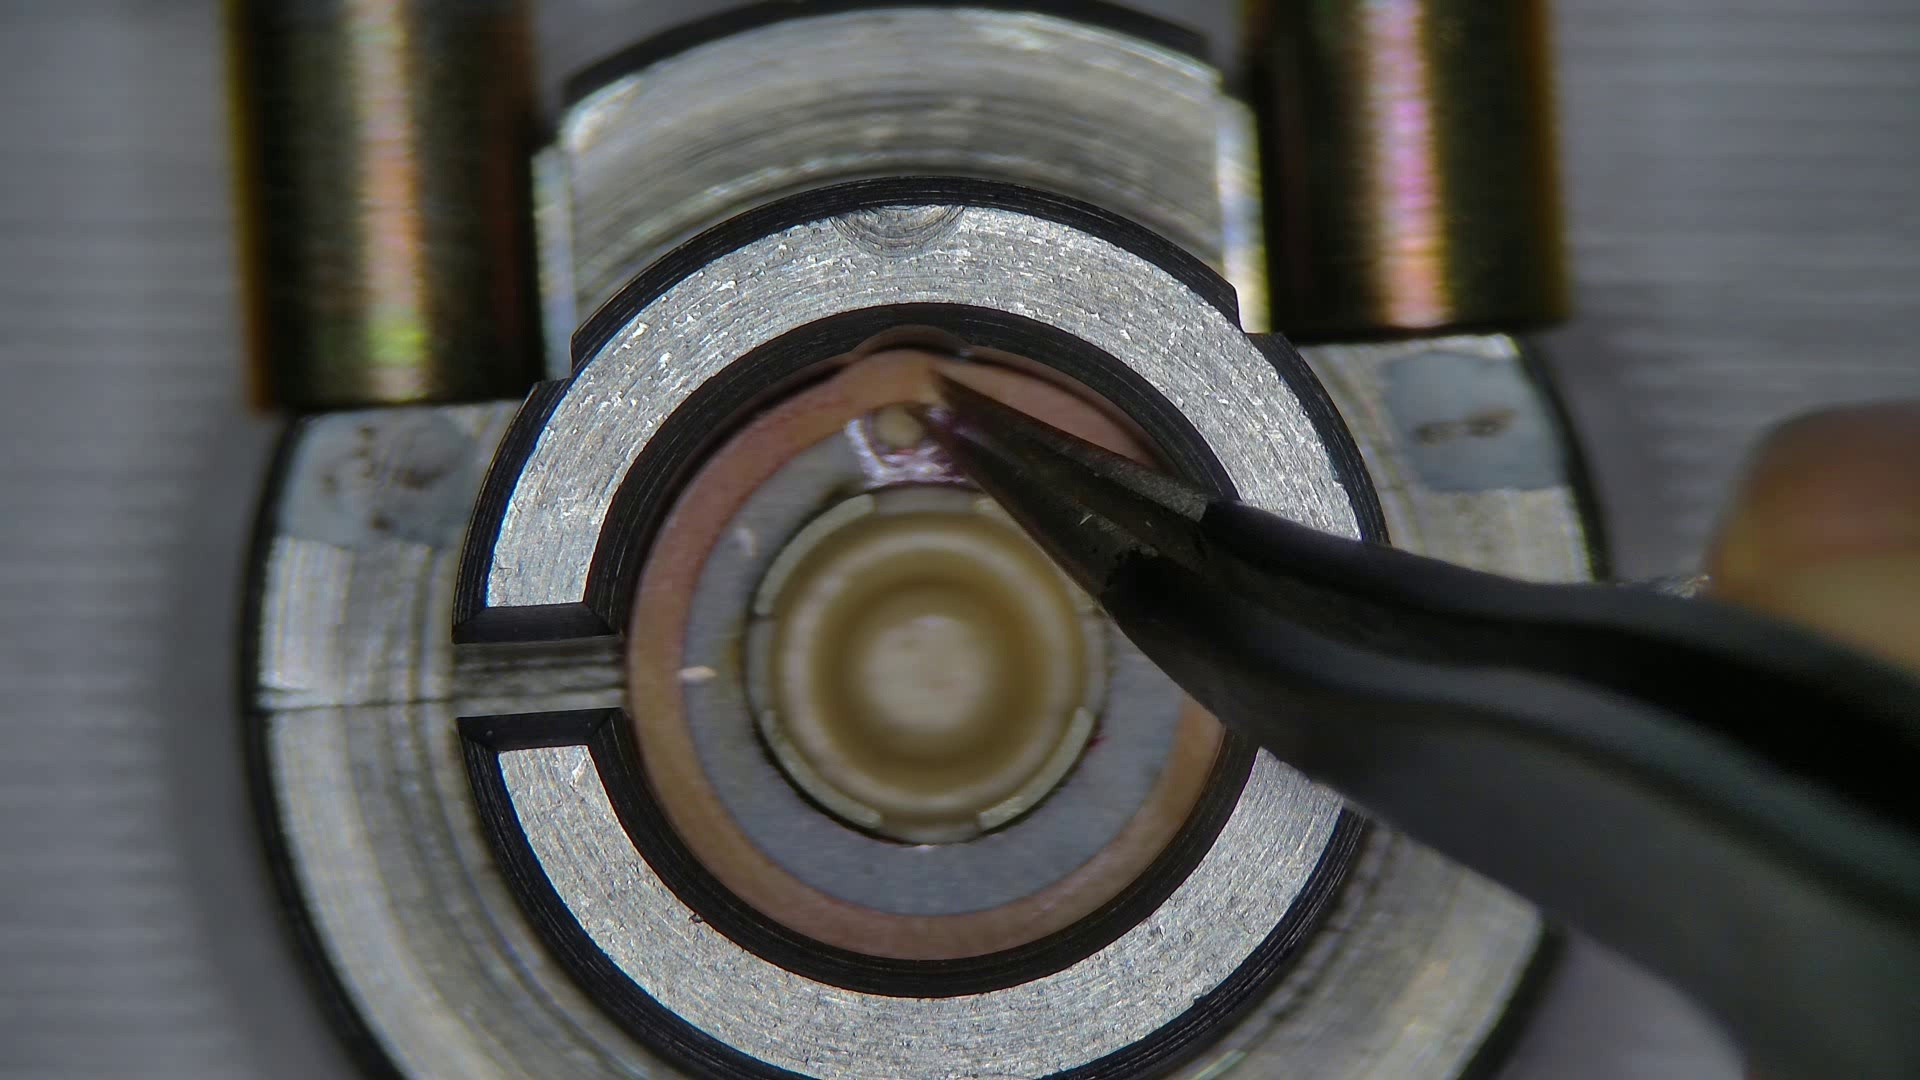GreyOring: (628, 349, 1221, 959)
YellowOring: (686, 410, 1176, 913)
